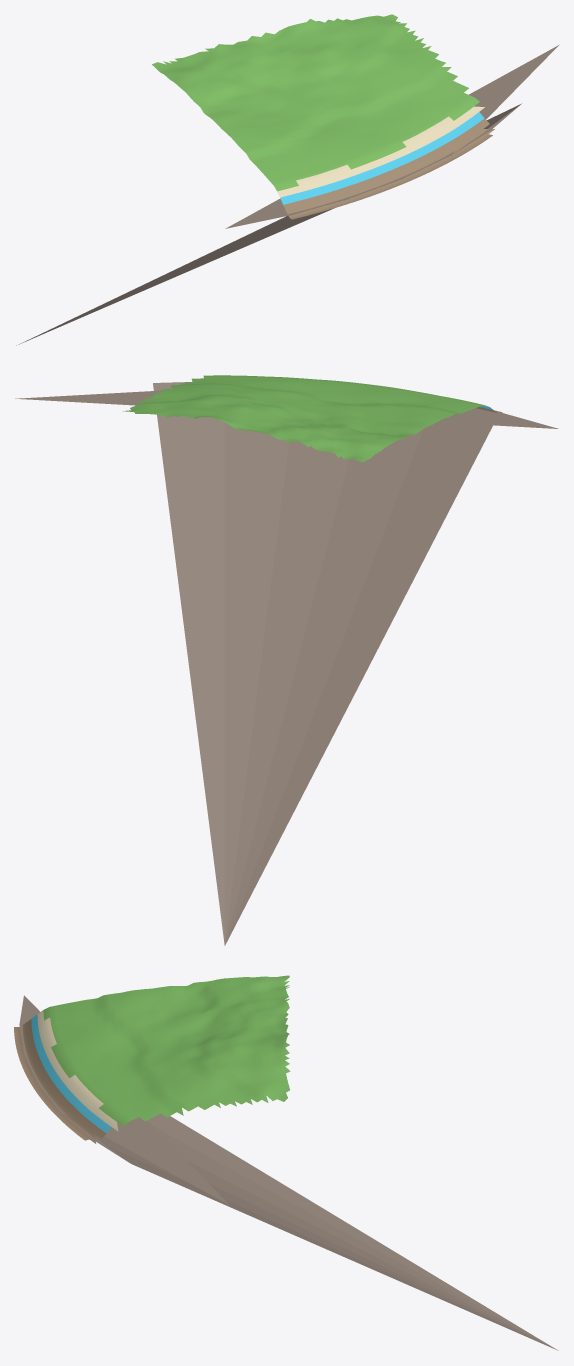
File: flagship_terrain_32.glb
3 views of the same model, one above another, from view 1: azimuth 30°, elevation 25°; view 2: azimuth 150°, elevation 25°; view 3: azimuth 270°, elevation 25° (orthographic).
Visible parts, largest first — view 1: Terrain_32; view 2: Terrain_32; view 3: Terrain_32.
Part boxes in pixels (<box>): Terrain_32: <box>16,14,559,345</box>; Terrain_32: <box>15,375,558,945</box>; Terrain_32: <box>14,975,558,1350</box>.
Bounding box in the file's own units: 111 × 93.72 × 121.
